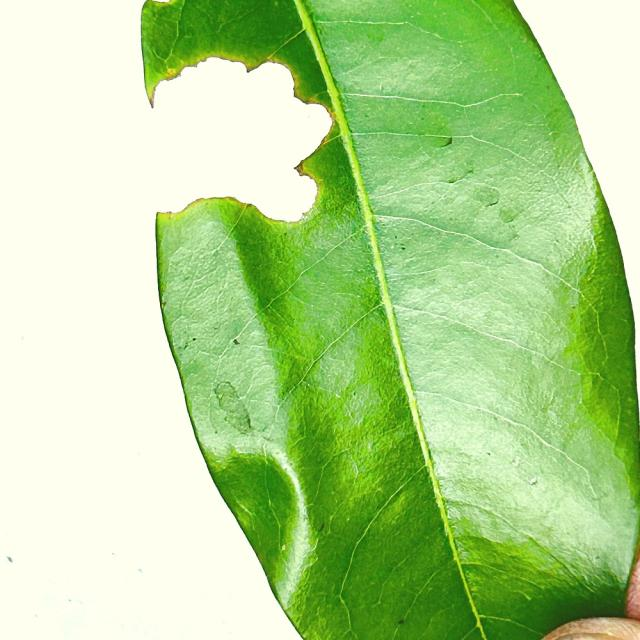Deficiency Leaf: (147, 60, 333, 224)
Lychee: (139, 0, 639, 639)
